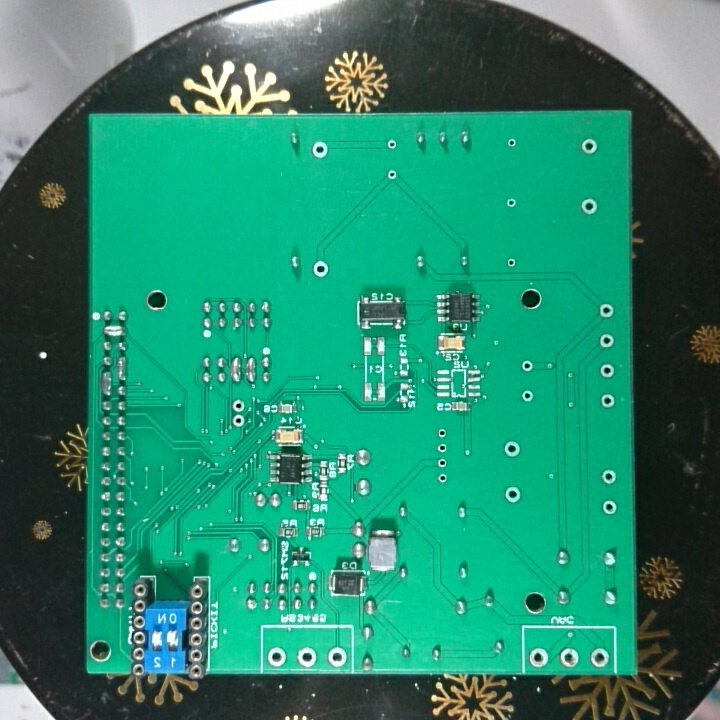F: (527, 646, 551, 672), (325, 643, 348, 669), (588, 645, 611, 670), (577, 195, 601, 218), (557, 646, 581, 669), (265, 645, 288, 669), (294, 646, 319, 668), (577, 135, 599, 158), (309, 139, 331, 161), (502, 484, 522, 506), (597, 361, 618, 381), (502, 439, 522, 460), (311, 258, 330, 280), (597, 300, 616, 321), (599, 498, 618, 519), (518, 388, 538, 407), (599, 392, 617, 412), (597, 331, 614, 351), (600, 468, 618, 486), (504, 254, 521, 272), (503, 195, 520, 212), (519, 358, 534, 377), (434, 425, 450, 442), (434, 440, 451, 456), (434, 469, 450, 486), (230, 413, 245, 431), (231, 398, 247, 414), (434, 455, 451, 470), (382, 138, 400, 152), (504, 135, 519, 151), (385, 166, 399, 182)
P: (98, 368, 114, 398), (101, 322, 130, 338), (243, 354, 257, 386), (228, 354, 242, 385), (115, 353, 129, 383)
